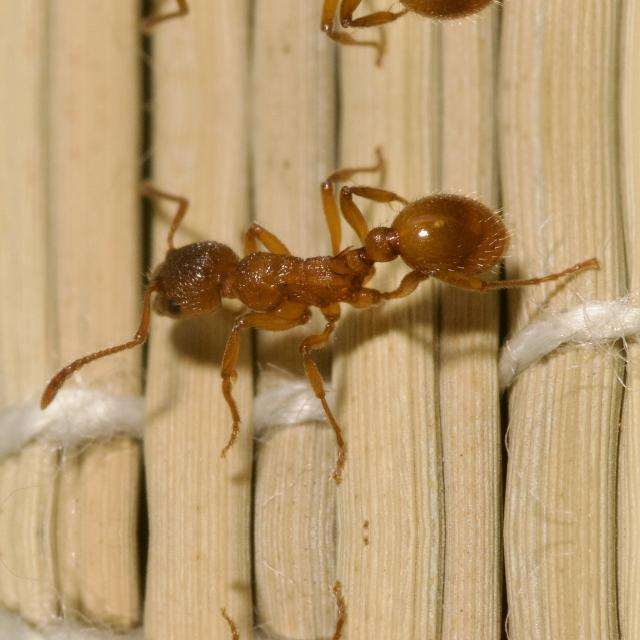Myrmica: (112, 161, 554, 395), (112, 0, 554, 50)
